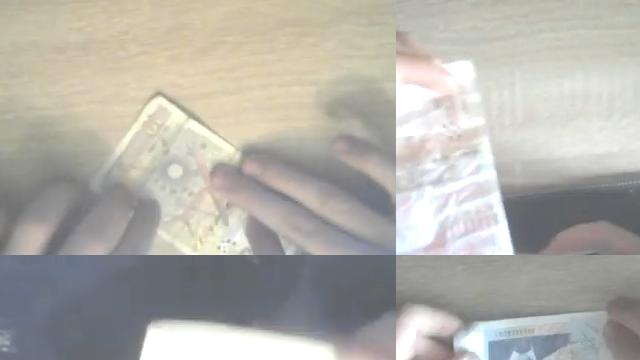10leva: (93, 91, 251, 255), (137, 317, 337, 360)
20leva: (455, 309, 611, 360)
5leva: (396, 60, 516, 255)
